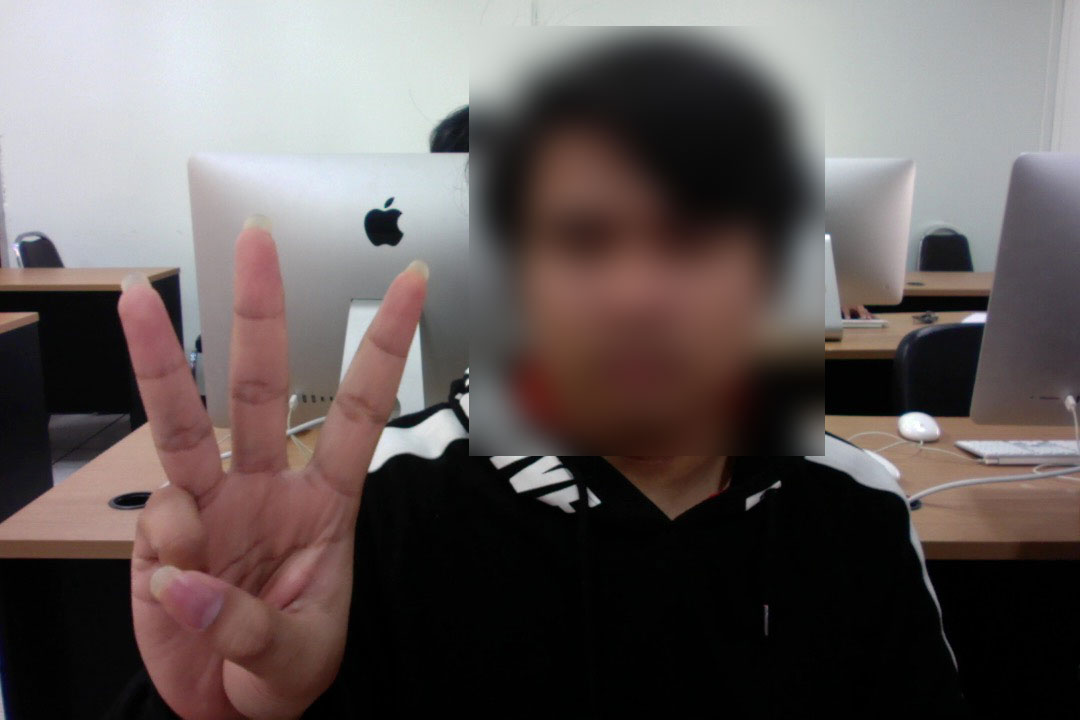wor: (63, 201, 460, 719)
